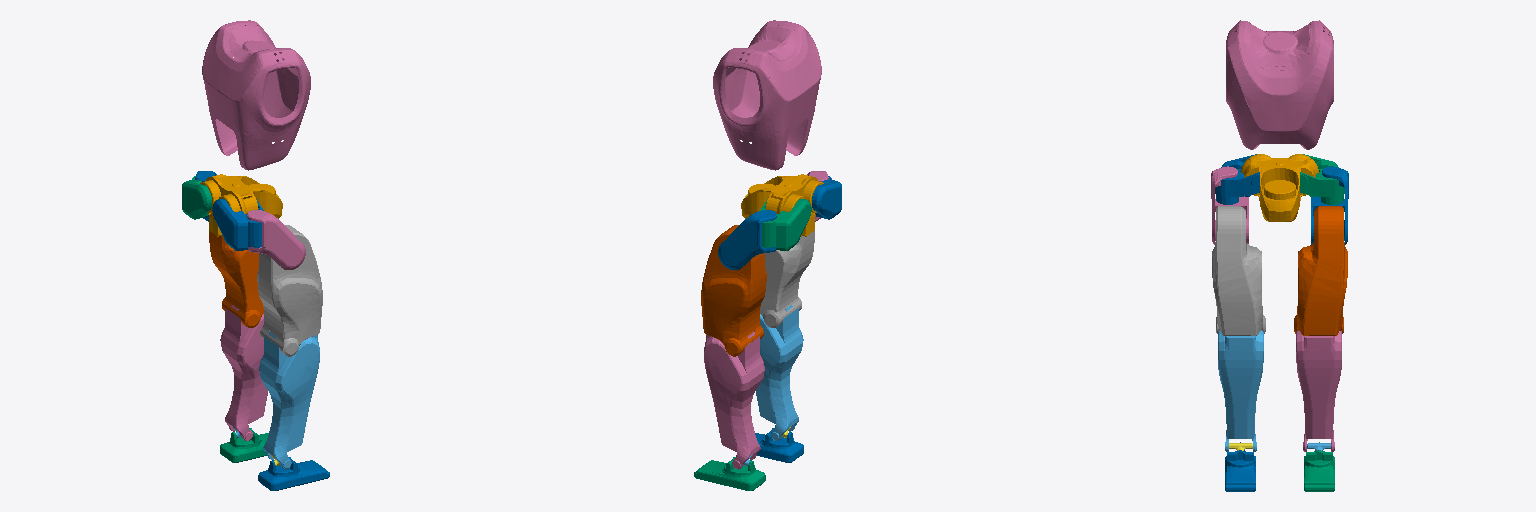
--- What the picture shows (computed from the rendered views, not written in the file) ---
Views: 3 orthographic renders of the robot side by side, from view 1: azimuth 30°, elevation 25°; view 2: azimuth 150°, elevation 25°; view 3: azimuth 270°, elevation 25°.
Model Alexander with 24 links and 23 joints (13 revolute, 10 fixed), rooted at PELVIS_LINK, posed every joint at zero.
Links seen in each view (by area): view 1: TORSO_LINK, RIGHT_THIGH, RIGHT_SHIN, LEFT_SHIN, LEFT_THIGH, PELVIS_LINK, RIGHT_HIP_Z_LINK, RIGHT_HIP_X_LINK, RIGHT_FOOT, LEFT_FOOT, LEFT_HIP_X_LINK; view 2: TORSO_LINK, LEFT_THIGH, LEFT_SHIN, RIGHT_SHIN, RIGHT_THIGH, PELVIS_LINK, LEFT_HIP_Z_LINK, LEFT_HIP_X_LINK, LEFT_FOOT, RIGHT_FOOT, RIGHT_HIP_X_LINK; view 3: TORSO_LINK, LEFT_THIGH, RIGHT_THIGH, LEFT_SHIN, RIGHT_SHIN, PELVIS_LINK, LEFT_FOOT, RIGHT_FOOT, LEFT_HIP_X_LINK, RIGHT_HIP_X_LINK, LEFT_HIP_Z_LINK, RIGHT_HIP_Z_LINK.
Link boxes in pixels (x1,y1,x2,y2): TORSO_LINK: (202,20,310,170); RIGHT_THIGH: (257,225,322,356); RIGHT_SHIN: (259,330,319,469); LEFT_SHIN: (220,305,267,440); LEFT_THIGH: (209,230,263,327); PELVIS_LINK: (200,174,282,236); RIGHT_HIP_Z_LINK: (247,210,305,269); RIGHT_HIP_X_LINK: (212,199,263,250); RIGHT_FOOT: (258,457,329,490); LEFT_FOOT: (220,428,268,462); LEFT_HIP_X_LINK: (182,176,211,219); TORSO_LINK: (713,20,821,170); LEFT_THIGH: (701,225,766,356); LEFT_SHIN: (704,330,764,469); RIGHT_SHIN: (756,305,803,440); RIGHT_THIGH: (760,230,814,327); PELVIS_LINK: (741,174,823,236); LEFT_HIP_Z_LINK: (718,210,776,269); LEFT_HIP_X_LINK: (760,199,811,250); LEFT_FOOT: (694,457,765,490); RIGHT_FOOT: (755,428,803,462); RIGHT_HIP_X_LINK: (812,176,841,219); TORSO_LINK: (1226,20,1333,149); LEFT_THIGH: (1294,206,1347,335); RIGHT_THIGH: (1212,206,1265,335); LEFT_SHIN: (1296,330,1341,451); RIGHT_SHIN: (1218,330,1263,451); PELVIS_LINK: (1241,154,1318,221); LEFT_FOOT: (1304,442,1334,491); RIGHT_FOOT: (1225,442,1255,491); LEFT_HIP_X_LINK: (1300,154,1344,204); RIGHT_HIP_X_LINK: (1215,154,1259,204); LEFT_HIP_Z_LINK: (1311,166,1348,244); RIGHT_HIP_Z_LINK: (1211,166,1248,244).
Bounding box of the posed robot: 0.3464 × 0.4229 × 1.49 m (x, y, z).
14 mesh visuals loaded from 12 distinct referenced files (12 OBJ).

The robot description file, URDF, robot "Alexander":
<?xml version = "1.0" ?>
<robot name="Alexander">

    <!-- LEFT LEG JOINTS -->
    <joint name="LEFT_HIP_X" type="revolute">
        <origin rpy="0 0 0" xyz="-0.162	0.0595	-0.015"/>
        <axis xyz="1 0 0"/>
        <parent link="PELVIS_LINK"/>
        <child link="LEFT_HIP_X_LINK"/>
        <limit effort="150" lower="-0.3490658504" upper="0.872664626" velocity="9"/>
        <dynamics damping="0.05" friction="0.0"/>
    </joint>
    <joint name="LEFT_HIP_Z" type="revolute">
        <origin rpy="0 0 0" xyz="0.06	0.1	-0.08"/>
        <axis xyz="0 0 1"/>
        <parent link="LEFT_HIP_X_LINK"/>
        <child link="LEFT_HIP_Z_LINK"/>
        <limit effort="60" lower="-0.3490658504" upper="1.0472" velocity="11"/>
        <dynamics damping="0.05" friction="0.0"/>
    </joint>
    <joint name="LEFT_HIP_Y" type="revolute">
        <origin rpy="0 0 0" xyz="0.1045	-0.0573	-0.0525"/>
        <axis xyz="0 1 0"/>
        <parent link="LEFT_HIP_Z_LINK"/>
        <child link="LEFT_THIGH"/>
        <limit effort="200" lower="-2.61799" upper="0.785398" velocity="8"/>
        <dynamics damping="0.05" friction="0.0"/>
    </joint>
    <joint name="LEFT_KNEE_Y" type="revolute">
        <origin rpy="0 0 0" xyz="0	0.018	-0.32"/>
        <axis xyz="0 1 0"/>
        <parent link="LEFT_THIGH"/>
        <child link="LEFT_SHIN"/>
        <limit effort="200" lower="0" upper="2.445206282" velocity="8"/>
        <dynamics damping="0.05" friction="0.0"/>
    </joint>
    <joint name="LEFT_ANKLE_Y" type="revolute">
        <origin rpy="0 0 0" xyz="0	0	-0.41"/>
        <axis xyz="0 1 0"/>
        <parent link="LEFT_SHIN"/>
        <child link="LEFT_ANKLE_Y_LINK"/>
        <limit effort="180" lower="-1.0472" upper="0.523599" velocity="8"/>
        <dynamics damping="0.05" friction="0.0"/>
    </joint>
    <joint name="LEFT_ANKLE_X" type="revolute">
        <origin rpy="0 0 0" xyz="0	0	-0.012"/>
        <axis xyz="1 0 0"/>
        <parent link="LEFT_ANKLE_Y_LINK"/>
        <child link="LEFT_FOOT"/>
        <limit effort="90" lower="-0.436332" upper="0.436332" velocity="8"/>
        <dynamics damping="0.05" friction="0.0"/>
    </joint>

    <!-- RIGHT LEG JOINTS -->
    <joint name="RIGHT_HIP_X" type="revolute">
        <origin rpy="0 0 0" xyz="-0.162	-0.0595	-0.015"/>
        <axis xyz="1 0 0"/>
        <parent link="PELVIS_LINK"/>
        <child link="RIGHT_HIP_X_LINK"/>
        <limit effort="150" lower="-0.872664626" upper="0.3490658504" velocity="9"/>
        <dynamics damping="0.05" friction="0.0"/>
    </joint>
    <joint name="RIGHT_HIP_Z" type="revolute">
        <origin rpy="0 0 0" xyz="0.06	-0.1	-0.08"/>
        <axis xyz="0 0 1"/>
        <parent link="RIGHT_HIP_X_LINK"/>
        <child link="RIGHT_HIP_Z_LINK"/>
        <limit effort="60" lower="-1.0472" upper="0.3490658504" velocity="11"/>
        <dynamics damping="0.05" friction="0.0"/>
    </joint>
    <joint name="RIGHT_HIP_Y" type="revolute">
        <origin rpy="0 0 0" xyz="0.1045	0.0573	-0.0525"/>
        <axis xyz="0 1 0"/>
        <parent link="RIGHT_HIP_Z_LINK"/>
        <child link="RIGHT_THIGH"/>
        <limit effort="200" lower="-2.61799" upper="0.785398" velocity="8"/>
        <dynamics damping="0.05" friction="0.0"/>
    </joint>
    <joint name="RIGHT_KNEE_Y" type="revolute">
        <origin rpy="0 0 0" xyz="0	-0.018	-0.32"/>
        <axis xyz="0 1 0"/>
        <parent link="RIGHT_THIGH"/>
        <child link="RIGHT_SHIN"/>
        <limit effort="200" lower="0" upper="2.445206282" velocity="8"/>
        <dynamics damping="0.05" friction="0.0"/>
    </joint>
    <joint name="RIGHT_ANKLE_Y" type="revolute">
        <origin rpy="0 0 0" xyz="0	0	-0.41"/>
        <axis xyz="0 1 0"/>
        <parent link="RIGHT_SHIN"/>
        <child link="RIGHT_ANKLE_Y_LINK"/>
        <limit effort="180" lower="-1.0472" upper="0.523599" velocity="8"/>
        <dynamics damping="0.05" friction="0.0"/>
    </joint>
    <joint name="RIGHT_ANKLE_X" type="revolute">
        <origin rpy="0 0 0" xyz="0	0	-0.012"/>
        <axis xyz="1 0 0"/>
        <parent link="RIGHT_ANKLE_Y_LINK"/>
        <child link="RIGHT_FOOT"/>
        <limit effort="90" lower="-0.436332" upper="0.436332" velocity="8"/>
        <dynamics damping="0.05" friction="0.0"/>
    </joint>

    <!-- SPINE JOINTS -->
    <joint name="SPINE_Z" type="revolute">
        <origin rpy="0 0 0" xyz="0.0 0 0.018"/> <!-- check with CAD -->
        <axis xyz="0 0 1"/>
        <parent link="PELVIS_LINK"/>
        <child link="TORSO_LINK"/>
        <limit effort="150" lower="-0.5235987756" upper="0.5235987756" velocity="9.0"/>
        <dynamics damping="0.05" friction="0.0"/>
    </joint>

    <!-- LINKS -->
    <link name="PELVIS_LINK">
        <inertial>
            <!-- Mass is measured by Sean as 7.700 on June 9 -->
            <mass value="9.50083635"/>
            <origin rpy="0 0 0" xyz="-0.08354287 0.00005291 -0.03484828"/>
            <inertia ixx="0.03428688" ixy="0.00001151" ixz="0.00015935" iyy="0.05178848" iyz="0.00004514" izz="0.06001929"/>
        </inertial>
        <visual>
            <geometry>
                <mesh filename="package://alexander_V1_description/meshes/legs/Pelvis.obj"/>
            </geometry>
            <origin rpy="0.0 0.0 0.0" xyz="0.0 0.0 0.0"/>
        </visual>
        <collision name="pelvis_collision">
            <geometry>
                <box size="0.15 0.10 0.12"/>
            </geometry>
            <origin xyz="0.0 0.0 -0.05" rpy="0.0 0.0 0.0"/>
        </collision>
    </link>
    <!-- Pelvis IMU -->
    <joint name="PELVIS_IMU_JOINT" type="fixed">
        <parent link="PELVIS_LINK"/>
        <child link="PELVIS_IMU_LINK"/>
        <origin xyz="-0.08687724 0.01225028 -0.08051472" rpy="-0.01399 -0.013054 1.570796"/>
    </joint>
    <link name="PELVIS_IMU_LINK">
        <inertial>
            <mass value="0.0"/>
            <origin xyz="0 0 0" rpy="0 0 0"/>
            <inertia ixx="0.0" ixy="0.0" ixz="0.0" iyy="0.0" iyz="0.0" izz="0.0"/>
        </inertial>
    </link>
    <gazebo reference="PELVIS_IMU_LINK">
        <sensor name="pelvis_imu" type="imu">
            <always_on>1</always_on>
            <update_rate>1000.0</update_rate>
            <imu>
                <noise>
                    <type>gaussian</type>
                    <rate>
                        <mean>0.0</mean>
                        <stddev>2e-4</stddev>
                        <bias_mean>0.0000075</bias_mean>
                        <bias_stddev>0.0000008</bias_stddev>
                    </rate>
                    <accel>
                        <mean>0.0</mean>
                        <stddev>1.7e-2</stddev>
                        <bias_mean>0.1</bias_mean>
                        <bias_stddev>0.001</bias_stddev>
                    </accel>
                </noise>
            </imu>
        </sensor>
    </gazebo>
    <!-- end pelvis imu -->

    <!-- LEFT LEG LINKS -->
    <link name="LEFT_HIP_X_LINK">
        <inertial>
            <!-- Mass is measured by Sean as 1.933 on June 9 -->
            <mass value="2.32977961"/>
            <origin rpy="0 0 0" xyz="0.04350911	0.08708606 -0.03525761"/>
            <inertia ixx="0.00467452" ixy="-0.00058626" ixz="0.00013124" iyy="0.00516613" iyz="0.00048141" izz="0.00553124"/>
        </inertial>
        <visual>
            <geometry>
                <mesh filename="package://alexander_V1_description/meshes/legs/LeftHipRollLink.obj"/>
            </geometry>
            <origin rpy="0.0 0.0 0.0" xyz="0.0 0.0 0.0"/>
        </visual>
        <collision name="left_hip_x_collision">
            <geometry>
                <box size="0.02 0.12 0.10"/>
            </geometry>
            <origin rpy="0.0 0.0 0.0" xyz="-0.02 0.02 0.0"/>
        </collision>
    </link>
    <!-- LeftHipRollIMU-->
    <link name="LEFT_HIP_X_IMU_LINK">
        <inertial>
            <mass value="0"/>
            <origin rpy="0 0 0" xyz="0 0 0"/>
            <inertia ixx="0.0" ixy="0.0" ixz="0.0" iyy="0.0" iyz="0.0" izz="0.0"/>
        </inertial>
    </link>
    <joint name="LEFT_HIP_X_IMU_JOINT" type="fixed">
        <origin rpy="-1.570796 0 1.570796" xyz="-0.01922309 0.10145013 -0.01488788"/>
        <axis xyz="0 0 1"/>
        <parent link="LEFT_HIP_X_LINK"/>
        <child link="LEFT_HIP_X_IMU_LINK"/>
    </joint>
    <gazebo reference="LEFT_HIP_X_IMU_LINK">
        <sensor name="left_hip_x_imu" type="imu">
            <always_on>true</always_on>
            <imu>
                <noise>
                    <type>gaussian</type>
                    <rate>
                        <mean>0</mean>
                        <stddev>0.0002</stddev>
                        <bias_mean>7.5e-06</bias_mean>
                        <bias_stddev>8e-07</bias_stddev>
                    </rate>
                    <accel>
                        <mean>0</mean>
                        <stddev>0.017</stddev>
                        <bias_mean>0.1</bias_mean>
                        <bias_stddev>0.001</bias_stddev>
                    </accel>
                </noise>
            </imu>
        </sensor>
    </gazebo>

    <link name="LEFT_HIP_Z_LINK">
        <inertial>
            <!-- Mass is measured by Sean as 0.777 on June 9 -->
            <mass value="0.77281362"/>
            <origin rpy="0 0 0" xyz="0.04549595	-0.00525571	-0.00937454"/>
            <inertia ixx="0.00317639" ixy="0.00005807" ixz="0.00080598" iyy="0.00345182" iyz="0.00047441" izz="0.00313245"/>
        </inertial>
        <visual>
            <geometry>
                <mesh filename="package://alexander_V1_description/meshes/legs/LeftHipYawLink.obj"/>
            </geometry>
            <origin rpy="0.0 0.0 0.0" xyz="0 0 0"/>
        </visual>
    </link>
    <link name="LEFT_THIGH">
        <inertial>
            <!-- Mass is measured by Sean as 8.200 on June 9 -->
            <mass value="7.75"/><!-- CAD Mass 6.31087157 (Hacked April 1 2025 to match IRL Scale of whole robot) -->
            <origin rpy="0 0 0" xyz="0.01417302	0.03268781	-0.10548314"/>
            <inertia ixx="0.09264028" ixy="0.00038532" ixz="0.00916409" iyy="0.09733033" iyz="-0.0043516" izz="0.02803877"/>
        </inertial>
        <visual>
            <geometry>
                <mesh filename="package://alexander_V1_description/meshes/legs/LeftThigh.obj"/>
            </geometry>
            <origin rpy="0.0 0.0 0.0" xyz="0 0 0"/>
        </visual>
        <collision name="left_thigh_collision">
            <geometry>
                <box size="0.16 0.13 0.29"/> <!-- width (X), depth (Y), height (Z) -->
            </geometry>
            <origin rpy="0.0 0.0 0.0" xyz="0.03 0.03 -0.15"/> <!-- Centered along thigh -->
        </collision>
    </link>
    <link name="LEFT_SHIN">
        <inertial>
            <!-- Mass is measured by Sean as 7.400 on June 9 -->
            <mass value="6.31087157"/><!-- CAD Mass 6.31087157 (Hacked April 1 2025 to match IRL Scale of whole robot) -->
            <origin rpy="0 0 0" xyz="0.03807965	-0.00108105	-0.12410027"/>
            <inertia ixx="0.08823148" ixy="-0.00054706" ixz="-0.00634132" iyy="0.09163264" iyz="0.00002714" izz="0.01569601"/>
        </inertial>
        <visual>
            <geometry>
                <mesh filename="package://alexander_V1_description/meshes/legs/LeftShin.obj"/>
            </geometry>
            <origin rpy="0.0 0.0 0.0" xyz="0 0 0"/>
        </visual>
        <collision name="left_shin_collision">
            <geometry>
                <cylinder radius="0.08" length="0.3"/>  <!-- Adjust based on shin dimensions -->
            </geometry>
            <origin rpy="0.0 0.0 0.0" xyz="0.04 0.0 -0.14"/> <!-- Centered along shin -->
        </collision>
    </link>
    <!-- LeftThighIMU-->
    <link name="LEFT_THIGH_IMU_LINK">
        <inertial>
            <mass value="0"/>
            <origin rpy="0 0 0" xyz="0 0 0"/>
            <inertia ixx="0.0" ixy="0.0" ixz="0.0" iyy="0.0" iyz="0.0" izz="0.0"/>
        </inertial>
    </link>
    <joint name="LEFT_THIGH_IMU_JOINT" type="fixed">
        <origin rpy="1.437982 0 1.570796" xyz="0.10004 0.03746 -0.21194"/>
        <axis xyz="0 0 1"/>
        <parent link="LEFT_THIGH"/>
        <child link="LEFT_THIGH_IMU_LINK"/>
    </joint>
    <gazebo reference="LEFT_THIGH_IMU_LINK">
        <sensor name="left_thigh_imu" type="imu">
            <always_on>true</always_on>
            <imu>
                <noise>
                    <type>gaussian</type>
                    <rate>
                        <mean>0</mean>
                        <stddev>0.0002</stddev>
                        <bias_mean>7.5e-06</bias_mean>
                        <bias_stddev>8e-07</bias_stddev>
                    </rate>
                    <accel>
                        <mean>0</mean>
                        <stddev>0.017</stddev>
                        <bias_mean>0.1</bias_mean>
                        <bias_stddev>0.001</bias_stddev>
                    </accel>
                </noise>
            </imu>
        </sensor>
    </gazebo>

    <!-- LeftShinIMU-->
    <link name="LEFT_SHIN_IMU_LINK">
        <inertial>
            <mass value="0"/>
            <origin rpy="0 0 0" xyz="0 0 0"/>
            <inertia ixx="0.0" ixy="0.0" ixz="0.0" iyy="0.0" iyz="0.0" izz="0.0"/>
        </inertial>
    </link>
    <joint name="LEFT_SHIN_IMU_JOINT" type="fixed">
        <origin rpy="1.403695170631842 0 -1.570796" xyz="0.05655120 0.00084826 -0.15664831"/>
        <axis xyz="0 0 1"/>
        <parent link="LEFT_SHIN"/>
        <child link="LEFT_SHIN_IMU_LINK"/>
    </joint>
    <gazebo reference="LEFT_SHIN_IMU_LINK">
        <sensor name="left_shin_imu" type="imu">
            <always_on>true</always_on>
            <imu>
                <noise>
                    <type>gaussian</type>
                    <rate>
                        <mean>0</mean>
                        <stddev>0.0002</stddev>
                        <bias_mean>7.5e-06</bias_mean>
                        <bias_stddev>8e-07</bias_stddev>
                    </rate>
                    <accel>
                        <mean>0</mean>
                        <stddev>0.017</stddev>
                        <bias_mean>0.1</bias_mean>
                        <bias_stddev>0.001</bias_stddev>
                    </accel>
                </noise>
            </imu>
        </sensor>
    </gazebo>

    <link name="LEFT_ANKLE_Y_LINK">
        <inertial>
            <mass value="0.05045632"/>
            <origin rpy="0 0 0" xyz="2.94E-07	2.22E-07	-0.00462997"/>
            <inertia ixx="0.00001733" ixy="2.12E-10" ixz="-1.26E-10" iyy="0.00000714" iyz="-2.02E-11" izz="0.00001851"/>
        </inertial>
        <visual>
            <geometry>
                <mesh filename="package://alexander_V1_description/meshes/legs/AnklePitchLink.obj"/>
            </geometry>
            <origin rpy="0.0 0.0 0.0" xyz="0 0 0"/>
        </visual>
    </link>
    <link name="LEFT_FOOT">
        <inertial>
            <!-- Mass is measured by Sean as 1.26 June 9 -->
            <mass value="1.28288609"/>
            <origin rpy="0 0 0" xyz="0.03793372	-0.00000219	-0.0443663"/>
            <inertia ixx="0.00131328" ixy="0.00001057" ixz="0.00036242" iyy="0.00385286" iyz="-0.0000069" izz="0.00406301"/>
        </inertial>
        <visual>
            <geometry>
                <mesh filename="package://alexander_V1_description/meshes/legs/Foot.obj"/>
            </geometry>
            <origin rpy="0.0 0.0 0.0" xyz="0 0 0"/>
        </visual>
        <collision name="left_foot_collision">
            <geometry>
                <box size="0.22 0.1 0.02"/>
            </geometry>
            <origin rpy="0 0 0" xyz="0.05 0 -0.06"/>
        </collision>
    </link>
    <!-- LeftFootIMU-->
    <link name="LEFT_FOOT_IMU_LINK">
        <inertial>
            <mass value="0"/>
            <origin rpy="0 0 0" xyz="0 0 0"/>
            <inertia ixx="0.0" ixy="0.0" ixz="0.0" iyy="0.0" iyz="0.0" izz="0.0"/>
        </inertial>
    </link>
    <joint name="LEFT_FOOT_IMU_JOINT" type="fixed">
        <origin rpy="0 0 1.570796" xyz="-0.03575526 0.01180178 -0.04979705"/>
        <axis xyz="0 0 1"/>
        <parent link="LEFT_FOOT"/>
        <child link="LEFT_FOOT_IMU_LINK"/>
    </joint>
    <gazebo reference="LEFT_FOOT_IMU_LINK">
        <sensor name="left_foot_imu" type="imu">
            <always_on>true</always_on>
            <imu>
                <noise>
                    <type>gaussian</type>
                    <rate>
                        <mean>0</mean>
                        <stddev>0.0002</stddev>
                        <bias_mean>7.5e-06</bias_mean>
                        <bias_stddev>8e-07</bias_stddev>
                    </rate>
                    <accel>
                        <mean>0</mean>
                        <stddev>0.017</stddev>
                        <bias_mean>0.1</bias_mean>
                        <bias_stddev>0.001</bias_stddev>
                    </accel>
                </noise>
            </imu>
        </sensor>
    </gazebo>


    <!-- RIGHT LEG LINKS -->
    <link name="RIGHT_HIP_X_LINK">
        <inertial>
            <!-- Mass is measured by Sean as 1.933 on June 9 -->
            <mass value="2.32977248"/>
            <origin rpy="0 0 0" xyz="0.04351957	-0.08688935	-0.03525357"/>
            <inertia ixx="0.00467576" ixy="0.00061004" ixz="0.00013038" iyy="0.00516385" iyz="-0.00047381" izz="0.00552901"/>
        </inertial>
        <visual>
            <geometry>
                <mesh filename="package://alexander_V1_description/meshes/legs/RightHipRollLink.obj"/>
            </geometry>
            <origin rpy="0.0 0.0 0.0" xyz="0.0 0.0 0.0"/>
        </visual>
        <collision name="right_hip_x_collision">
            <geometry>
                <box size="0.02 0.12 0.10"/>
            </geometry>
            <origin rpy="0.0 0.0 0.0" xyz="-0.02 -0.02 0.0"/>
        </collision>
    </link>
    <!-- RightHipRollIMU-->
    <link name="RIGHT_HIP_X_IMU_LINK">
        <inertial>
            <mass value="0"/>
            <origin rpy="0 0 0" xyz="0 0 0"/>
            <inertia ixx="0.0" ixy="0.0" ixz="0.0" iyy="0.0" iyz="0.0" izz="0.0"/>
        </inertial>
    </link>
    <joint name="RIGHT_HIP_X_IMU_JOINT" type="fixed">
        <origin rpy="-1.570796 0 1.570796" xyz="-0.01922309 -0.07694987 -0.01488788"/>
        <axis xyz="0 0 1"/>
        <parent link="RIGHT_HIP_X_LINK"/>
        <child link="RIGHT_HIP_X_IMU_LINK"/>
    </joint>
    <gazebo reference="RIGHT_HIP_X_IMU_LINK">
        <sensor name="right_hip_x_imu" type="imu">
            <always_on>true</always_on>
            <imu>
                <noise>
                    <type>gaussian</type>
                    <rate>
                        <mean>0</mean>
                        <stddev>0.0002</stddev>
                        <bias_mean>7.5e-06</bias_mean>
                        <bias_stddev>8e-07</bias_stddev>
                    </rate>
                    <accel>
                        <mean>0</mean>
                        <stddev>0.017</stddev>
                        <bias_mean>0.1</bias_mean>
                        <bias_stddev>0.001</bias_stddev>
                    </accel>
                </noise>
            </imu>
        </sensor>
    </gazebo>

    <link name="RIGHT_HIP_Z_LINK">
        <inertial>
            <!-- Mass is measured by Sean as 0.777 on June 9 -->
            <mass value="0.77281055"/>
            <origin rpy="0 0 0" xyz="0.04549274	0.00525784	-0.00937505"/>
            <inertia ixx="0.00317639" ixy="-0.00005765" ixz="0.00080587" iyy="0.00345166" iyz="-0.00047466" izz="0.00313223"/>
        </inertial>
        <visual>
            <geometry>
                <mesh filename="package://alexander_V1_description/meshes/legs/RightHipYawLink.obj"/>
            </geometry>
            <origin rpy="0.0 0.0 0.0" xyz="0 0 0"/>
        </visual>
    </link>
    <link name="RIGHT_THIGH">
        <inertial>
            <!--  Mass is measured by Sean as 8.200 on June 9 -->
            <mass value="7.75"/><!-- CAD Mass 6.31087157 (Hacked April 1 2025 to match IRL Scale of whole robot) -->
            <origin rpy="0 0 0" xyz="0.01411846	-0.03282392	-0.10542795"/>
            <inertia ixx="0.09273162" ixy="-0.00026689" ixz="0.00921343" iyy="0.09738701" iyz="0.00422485" izz="0.02802165"/>
        </inertial>
        <visual>
            <geometry>
                <mesh filename="package://alexander_V1_description/meshes/legs/RightThigh.obj"/>
            </geometry>
            <origin rpy="0.0 0.0 0.0" xyz="0 0 0"/>
        </visual>
        <collision name="right_thigh_collision">
            <geometry>
                <box size="0.16 0.13 0.29"/><!-- width (X), depth (Y), height (Z) -->
            </geometry>
            <origin rpy="0.0 0.0 0.0" xyz="0.03 -0.03 -0.15"/>
        </collision>
    </link>
    <!-- RightThighIMU-->
    <link name="RIGHT_THIGH_IMU_LINK">
        <inertial>
            <mass value="0"/>
            <origin rpy="0 0 0" xyz="0 0 0"/>
            <inertia ixx="0.0" ixy="0.0" ixz="0.0" iyy="0.0" iyz="0.0" izz="0.0"/>
        </inertial>
    </link>
    <joint name="RIGHT_THIGH_IMU_JOINT" type="fixed">
        <origin rpy="1.6947717585 0 1.570796" xyz="0.10003618 -0.033541826 -0.21194191"/>
        <axis xyz="0 0 1"/>
        <parent link="RIGHT_THIGH"/>
        <child link="RIGHT_THIGH_IMU_LINK"/>
    </joint>
    <gazebo reference="RIGHT_THIGH_IMU_LINK">
        <sensor name="right_thigh_imu" type="imu">
            <always_on>true</always_on>
            <imu>
                <noise>
                    <type>gaussian</type>
                    <rate>
                        <mean>0</mean>
                        <stddev>0.0002</stddev>
                        <bias_mean>7.5e-06</bias_mean>
                        <bias_stddev>8e-07</bias_stddev>
                    </rate>
                    <accel>
                        <mean>0</mean>
                        <stddev>0.017</stddev>
                        <bias_mean>0.1</bias_mean>
                        <bias_stddev>0.001</bias_stddev>
                    </accel>
                </noise>
            </imu>
        </sensor>
    </gazebo>

    <link name="RIGHT_SHIN">
        <inertial>
            <!-- Mass is measured by Sean as 7.4 on June 9 -->
            <mass value="6.31087157"/><!-- CAD Mass 6.31087157 (Hacked April 1 2025 to match IRL Scale of whole robot) -->
            <origin rpy="0 0 0" xyz="0.03807648	0.00113375	-0.12408765"/>
            <inertia ixx="0.08705693" ixy="0.00057277" ixz="-0.00674654" iyy="0.090231" iyz="0.00028332" izz="0.01554032"/>
        </inertial>
        <visual>
            <geometry>
                <mesh filename="package://alexander_V1_description/meshes/legs/RightShin.obj"/>
            </geometry>
            <origin rpy="0.0 0.0 0.0" xyz="0 0 0"/>
        </visual>
        <collision name="right_shin_collision">
            <geometry>
                <cylinder radius="0.08" length="0.3"/>
            </geometry>
            <origin rpy="0 0 0" xyz="0.04 0 -0.14"/> <!-- centered along the shin length -->
        </collision>
    </link>
    <!-- RightShinIMU-->
    <link name="RIGHT_SHIN_IMU_LINK">
        <inertial>
            <mass value="0"/>
            <origin rpy="0 0 0" xyz="0 0 0"/>
            <inertia ixx="0.0" ixy="0.0" ixz="0.0" iyy="0.0" iyz="0.0" izz="0.0"/>
        </inertial>
    </link>
    <joint name="RIGHT_SHIN_IMU_JOINT" type="fixed">
        <origin rpy="1.403695170631842 0 -1.570796" xyz="0.05673025 -0.00875818 -0.15674961"/>
        <axis xyz="0 0 1"/>
        <parent link="RIGHT_SHIN"/>
        <child link="RIGHT_SHIN_IMU_LINK"/>
    </joint>
    <gazebo reference="RIGHT_SHIN_IMU_LINK">
        <sensor name="right_shin_imu" type="imu">
            <always_on>true</always_on>
            <imu>
                <noise>
                    <type>gaussian</type>
                    <rate>
                        <mean>0</mean>
                        <stddev>0.0002</stddev>
                        <bias_mean>7.5e-06</bias_mean>
                        <bias_stddev>8e-07</bias_stddev>
                    </rate>
                    <accel>
                        <mean>0</mean>
                        <stddev>0.017</stddev>
                        <bias_mean>0.1</bias_mean>
                        <bias_stddev>0.001</bias_stddev>
                    </accel>
                </noise>
            </imu>
        </sensor>
    </gazebo>

    <link name="RIGHT_ANKLE_Y_LINK">
        <inertial>
            <mass value="0.05045632"/>
            <origin rpy="0 0 0" xyz="2.94E-07	2.22E-07	-0.00462997"/>
            <inertia ixx="0.00001733" ixy="2.12E-10" ixz="-1.26E-10" iyy="0.00000714" iyz="-2.02E-11" izz="0.00001851"/>
        </inertial>
        <visual>
            <geometry>
                <mesh filename="package://alexander_V1_description/meshes/legs/AnklePitchLink.obj"/>
            </geometry>
            <origin rpy="0.0 0.0 0.0" xyz="0 0 0"/>
        </visual>
    </link>
    <link name="RIGHT_FOOT">
        <inertial>
            <!-- Mass is measured by Sean as 1.264275635 June 9 -->
            <mass value="1.28288609"/>
            <origin rpy="0 0 0" xyz="0.03793372	-0.00000219	-0.0443663"/>
            <inertia ixx="0.00131328" ixy="0.00001057" ixz="0.00036242" iyy="0.00385286" iyz="-0.0000069" izz="0.00406301"/>
        </inertial>
        <visual>
            <geometry>
                <mesh filename="package://alexander_V1_description/meshes/legs/Foot.obj"/>
            </geometry>
            <origin rpy="0.0 0.0 0.0" xyz="0 0 0"/>
        </visual>
        <collision name="right_foot_collision">
            <geometry>
                <box size="0.22 0.1 0.02"/>
            </geometry>
            <origin rpy="0 0 0" xyz="0.05 0 -0.06"/>
        </collision>
    </link>
    <!-- RightFootIMU-->
    <link name="RIGHT_FOOT_IMU_LINK">
        <inertial>
            <mass value="0"/>
            <origin rpy="0 0 0" xyz="0 0 0"/>
            <inertia ixx="0.0" ixy="0.0" ixz="0.0" iyy="0.0" iyz="0.0" izz="0.0"/>
        </inertial>
    </link>
    <joint name="RIGHT_FOOT_IMU_JOINT" type="fixed">
        <origin rpy="0 0 1.570796" xyz="-0.03575526 0.01180178 -0.04979705"/>
        <axis xyz="0 0 1"/>
        <parent link="RIGHT_FOOT"/>
        <child link="RIGHT_FOOT_IMU_LINK"/>
    </joint>
    <gazebo reference="RIGHT_FOOT_IMU_LINK">
        <sensor name="right_foot_imu" type="imu">
            <always_on>true</always_on>
            <imu>
                <noise>
                    <type>gaussian</type>
                    <rate>
                        <mean>0</mean>
                        <stddev>0.0002</stddev>
                        <bias_mean>7.5e-06</bias_mean>
                        <bias_stddev>8e-07</bias_stddev>
                    </rate>
                    <accel>
                        <mean>0</mean>
                        <stddev>0.017</stddev>
                        <bias_mean>0.1</bias_mean>
                        <bias_stddev>0.001</bias_stddev>
                    </accel>
                </noise>
            </imu>
        </sensor>
    </gazebo>

    <!-- SPINE LINKS -->
    <link name="TORSO_LINK">
        <inertial>
            <mass value="7.0081"/> <!-- Original was 4.352, measured mass of whole robot and put delta into this torso mass (08/12/2025 Stefan and Robert)-->
            <origin rpy="0 0 0" xyz="0.0 0.0 0.297"/>
            <inertia ixx="0.12560473345" ixy="0.0000157489" ixz="0.01304356847" iyy="0.11095084788" iyz="0.00023726412" izz="0.05378459099"/>
        </inertial>
        <visual>
            <geometry>
                <mesh filename="package://alexander_V1_description/meshes/torso.obj"/>
            </geometry>
            <origin rpy="0.0 0.0 0.0" xyz="0.0 0.0 0.105063"/>
        </visual>
        <collision name="torso_collision">
            <geometry>
                <box size="0.275 0.33 0.43"/>
            </geometry>
            <origin xyz="-0.01 0.00 0.3" rpy="0 0 0"/>
        </collision>
    </link>

    <!-- TORSO IMU -->
    <joint name="TORSO_IMU_JOINT" type="fixed">
        <origin rpy="0.0 0.0 -1.5708" xyz="-0.009753 -0.01075 0.373405"/>
        <axis xyz="0 0 1"/>
        <parent link="TORSO_LINK"/>
        <child link="TORSO_IMU_LINK"/>
    </joint>

    <link name="TORSO_IMU_LINK">
        <inertial>
            <mass value="0"/>
            <origin rpy="0 0 0" xyz="0 0 0"/>
            <inertia ixx="0.0" ixy="0.0" ixz="0.0" iyy="0.0" iyz="0.0" izz="0.0"/>
        </inertial>
    </link>

    <gazebo reference="TORSO_IMU_LINK">
        <sensor name="torso_imu" type="imu">
            <always_on>true</always_on>
            <imu>
                <noise>
                    <type>gaussian</type>
                    <rate>
                        <mean>0</mean>
                        <stddev>0.0002</stddev>
                        <bias_mean>7.5e-06</bias_mean>
                        <bias_stddev>8e-07</bias_stddev>
                    </rate>
                    <accel>
                        <mean>0</mean>
                        <stddev>0.017</stddev>
                        <bias_mean>0.1</bias_mean>
                        <bias_stddev>0.001</bias_stddev>
                    </accel>
                </noise>
            </imu>
        </sensor>
    </gazebo>
</robot>
